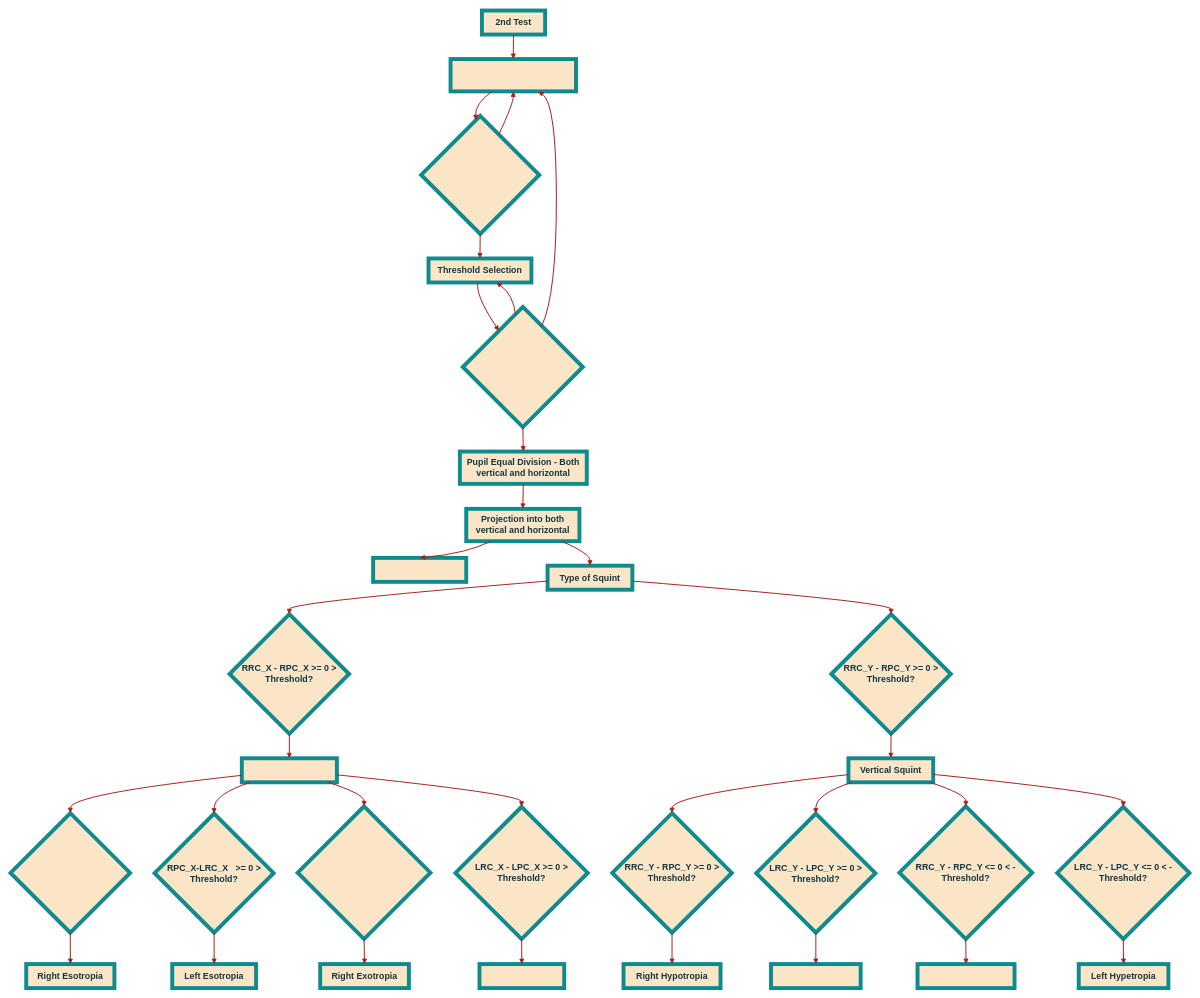
This 1200x998 diagram has some shape labels left out. Each missing label, with the centre of its shape:
"Degree of Squint" belongs at pixel 419 570.
"Gateway: Does it satisfy?" belongs at pixel 480 175.
"Hirschberg Reflex Light Detected?" belongs at pixel 523 367.
"Horizontal Squint" belongs at pixel 289 770.
"Left Exotropia" belongs at pixel 521 976.
"Left Hypotropia" belongs at pixel 815 976.
"Photo Upload with following given Instruction" belongs at pixel 513 75.
"Right Hypertropia" belongs at pixel 965 976.
"RPC_X -RRC_X >= 0 > Threshold?" belongs at pixel 70 872.
"RRC_X - RPC_X >= 0 &>Threshold?" belongs at pixel 363 872.
